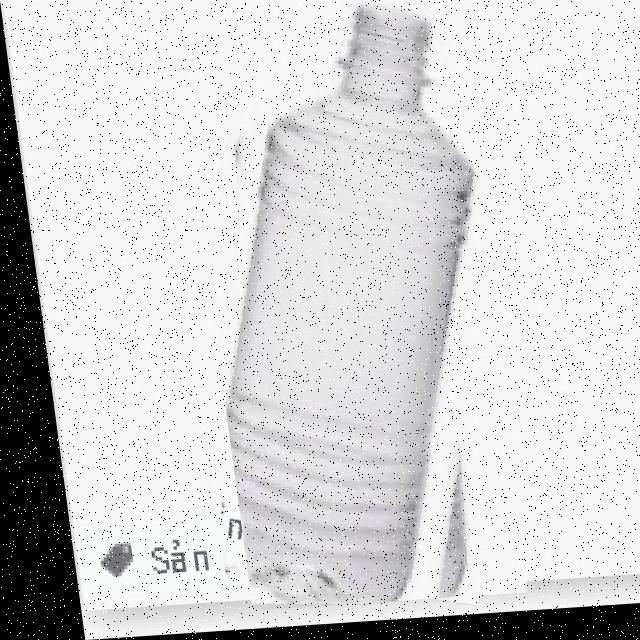plasticbottle: (170, 0, 554, 613)
